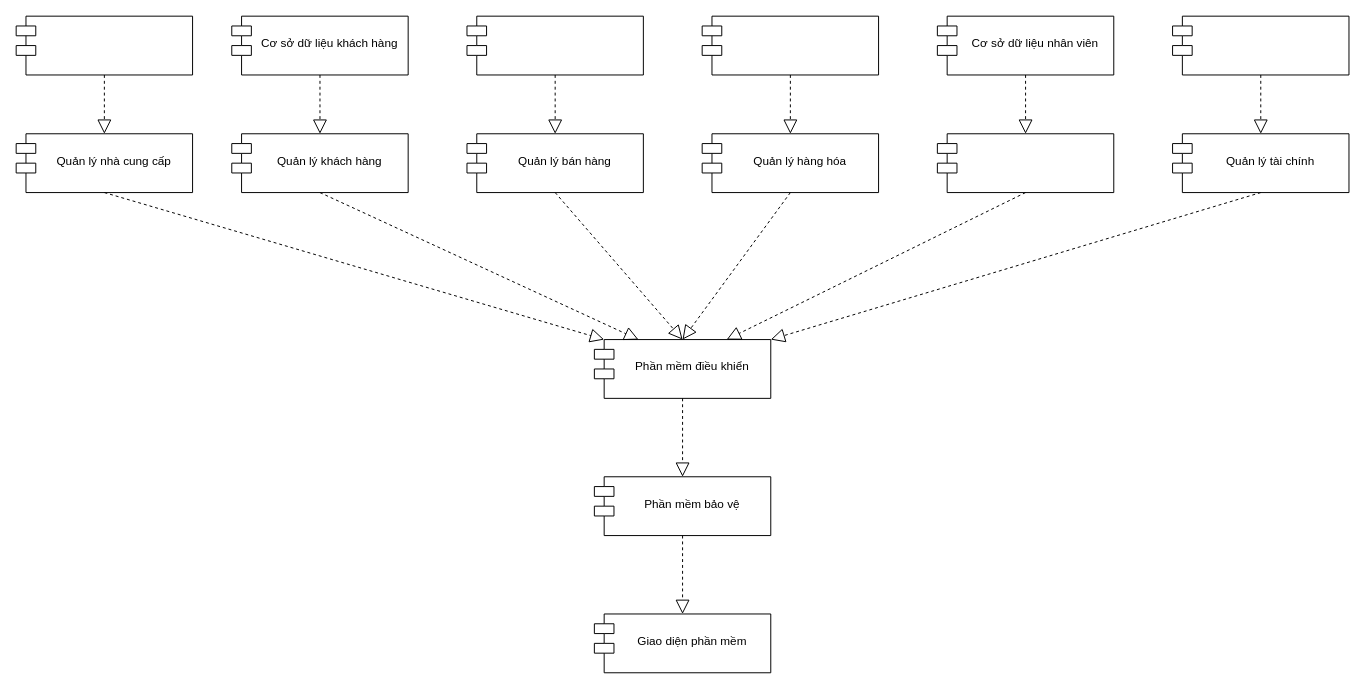
Some shapes in this 1365 by 689 pixel diagram are drawn without their labels. The shapes that lost their labels are listed below. From the top down, each one's box as (x1, y1, x2, y2) in pixels, then its label:
(15, 15, 193, 75): Cơ sở dữ liệu nhà cung cấp
(466, 15, 643, 75): Cơ sở dữ liệu bán hàng
(701, 15, 879, 75): Cơ sở dữ liệu quản lý hàng hóa
(1172, 15, 1349, 75): Cơ sở dữ liệu tài chính
(936, 133, 1114, 193): Quản lý nhân viên
